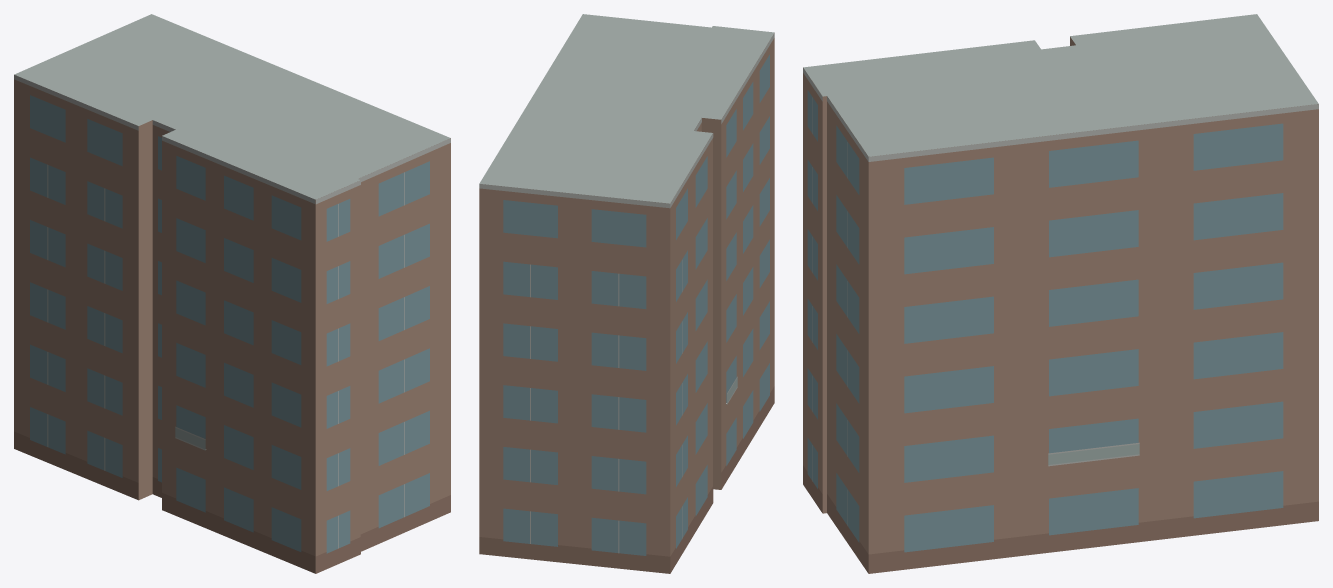
Rendered from survey-upis-32698847.glb.
3 renders of one model, left to right at view 1: azimuth 30°, elevation 25°; view 2: azimuth 150°, elevation 25°; view 3: azimuth 270°, elevation 25°, orthographic. The views are drawn at different scales.
Parts seen in each view (by area): view 1: survey-upis-32698847.tmp; view 2: survey-upis-32698847.tmp; view 3: survey-upis-32698847.tmp.
Part boxes in pixels (x1,y1,x2,y2): survey-upis-32698847.tmp: [14, 14, 450, 573]; survey-upis-32698847.tmp: [479, 14, 774, 573]; survey-upis-32698847.tmp: [803, 14, 1318, 573].
Size of the model in its own units: 14.26 by 19.4 by 21.75.
